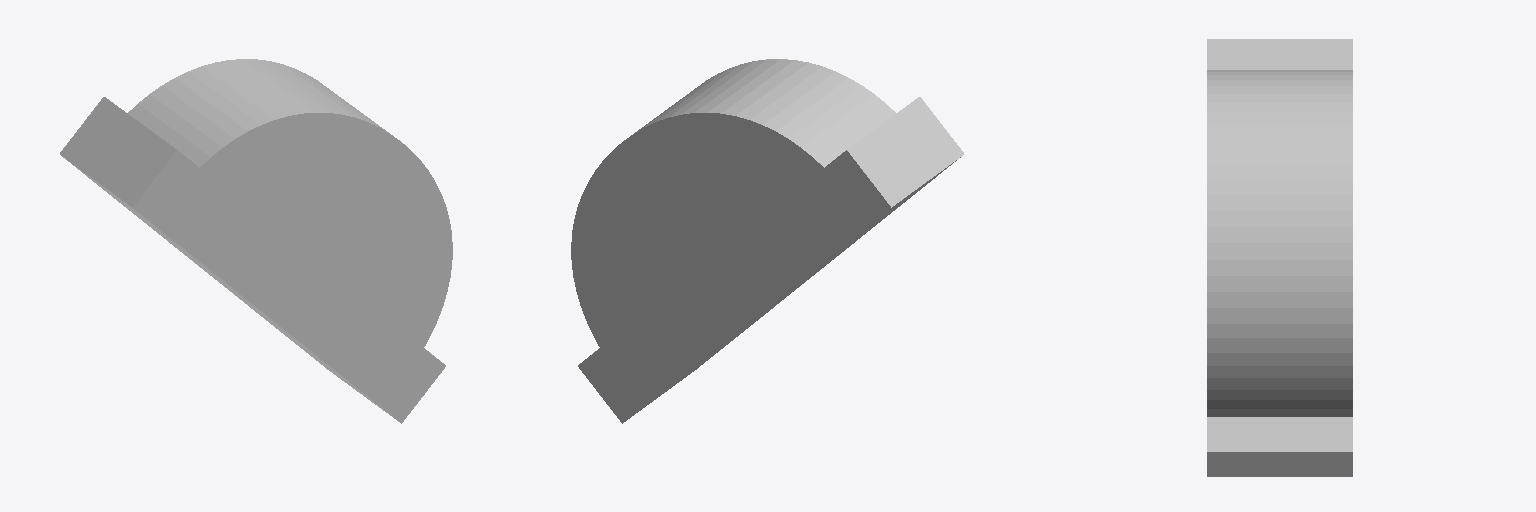
The model's file is IRIDIAepuck3D_Nov2019_LeftLED.obj.
3 renders of one model, left to right at view 1: azimuth 30°, elevation 25°; view 2: azimuth 150°, elevation 25°; view 3: azimuth 270°, elevation 25°, orthographic.
Parts seen in each view (by area): view 1: object_1; view 2: object_1; view 3: object_1.
Part boxes in pixels (x1,y1,x2,y2): object_1: (60,59,452,423); object_1: (571,59,963,423); object_1: (1207,39,1352,476).
Bounding box in the file's own units: 0.0042 × 0.0042 × 0.0017.